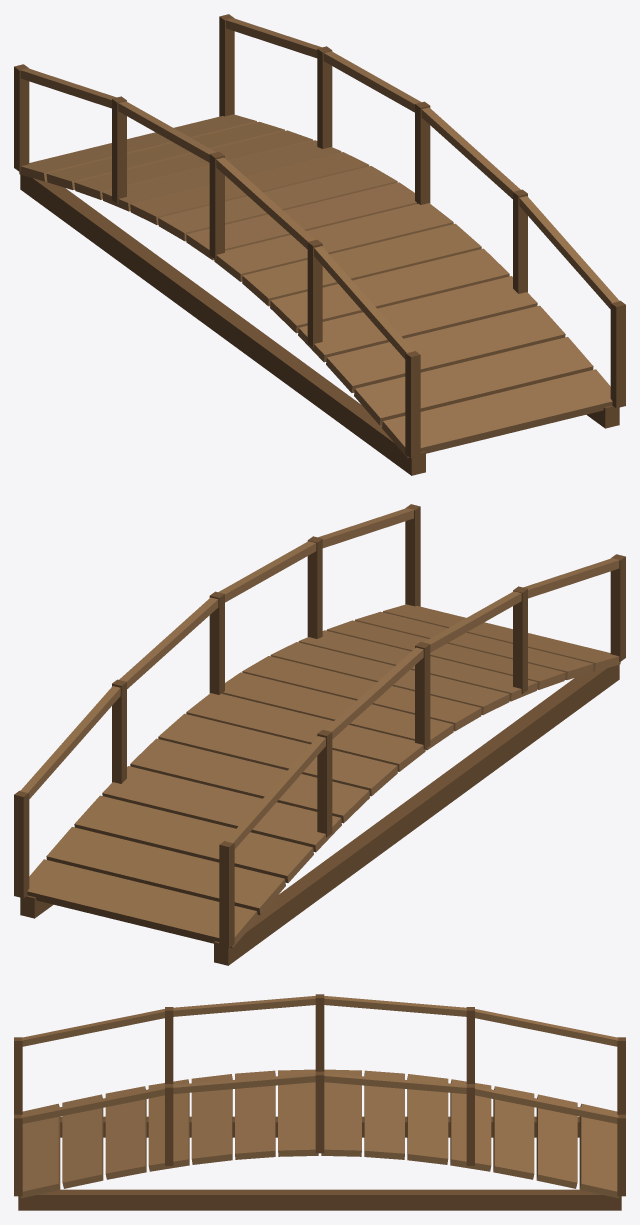
Rendered from footbridge.glb.
3 renders of one model, top to bottom at view 1: azimuth 30°, elevation 25°; view 2: azimuth 150°, elevation 25°; view 3: azimuth 270°, elevation 25°, orthographic. The views are drawn at different scales.
Parts seen in each view (by area): view 1: footbridge; view 2: footbridge; view 3: footbridge.
Boxes of the visible parts, left/top/right/bottom form: footbridge: left=14, top=14, right=625, bottom=475; footbridge: left=14, top=504, right=625, bottom=965; footbridge: left=14, top=994, right=625, bottom=1210.
Size of the model in its own units: 2.22 by 1.75 by 7.1.
